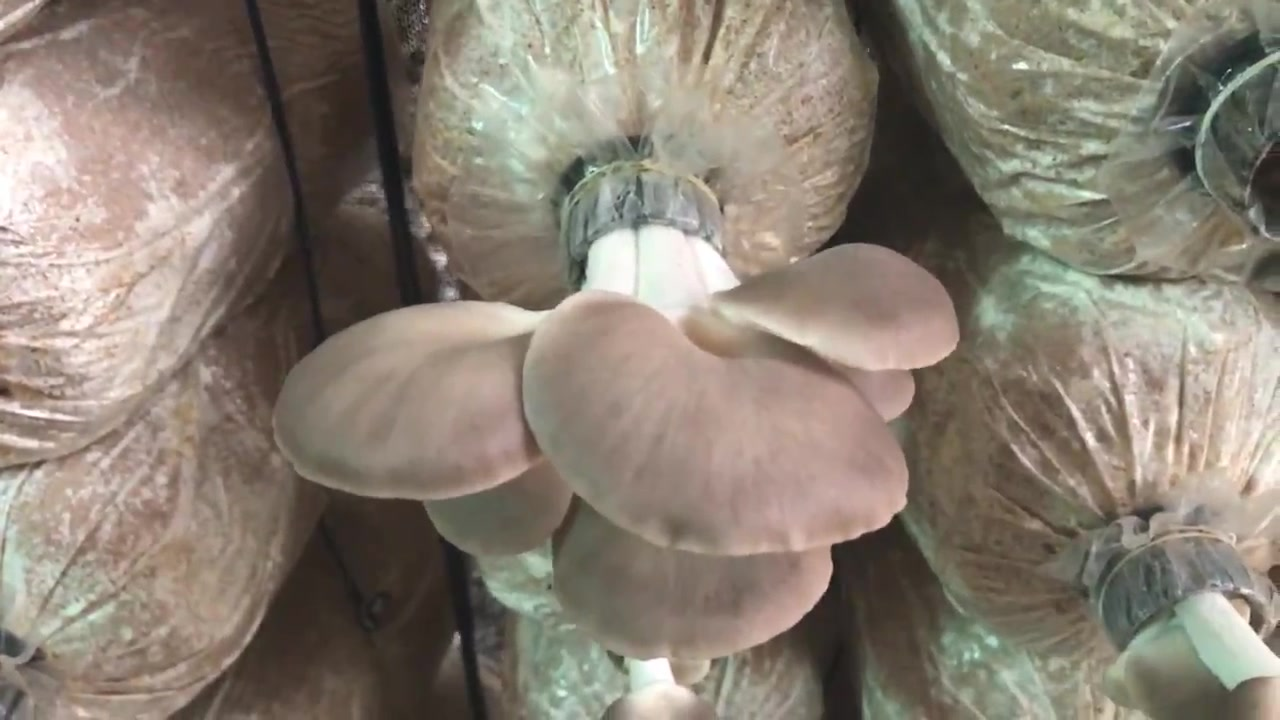nam: (274, 174, 959, 660), (1103, 531, 1280, 719), (598, 652, 707, 720)
